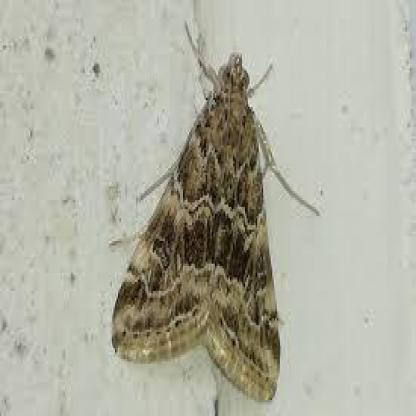Hellula undalis: (105, 15, 286, 401)
